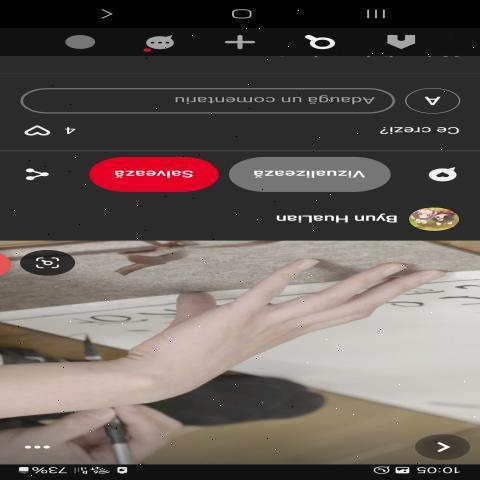Hands: (90, 241, 459, 428)
